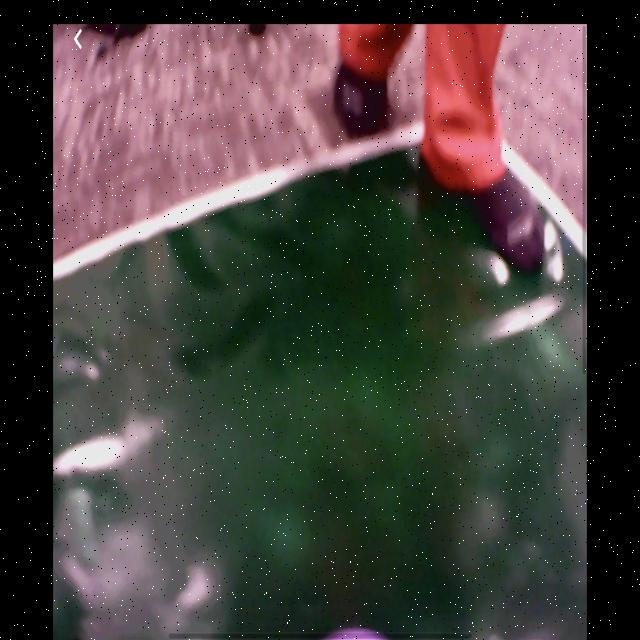ball: (328, 622, 392, 640)
